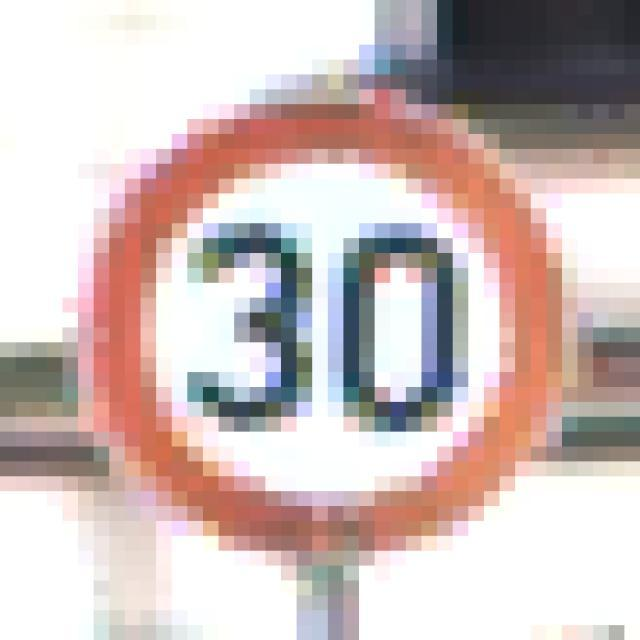Speed Limit -30-: (70, 66, 554, 544)
